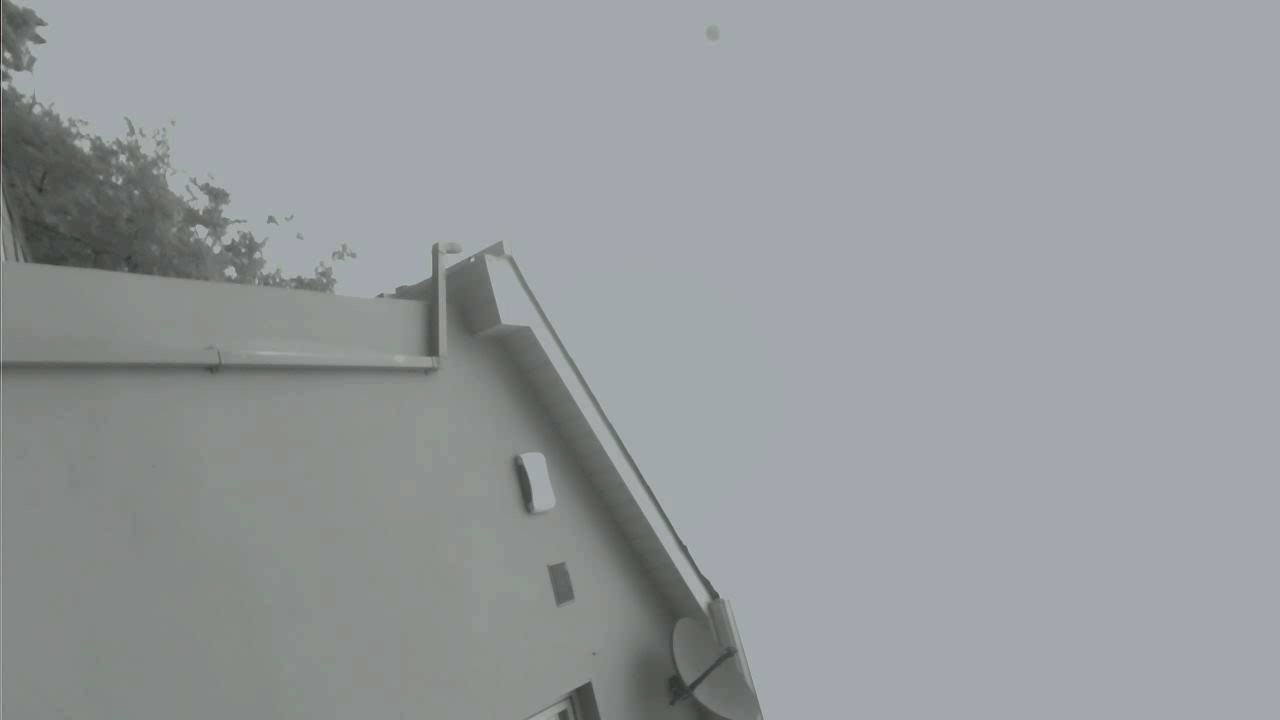Football-Spotter: (706, 24, 719, 40)
